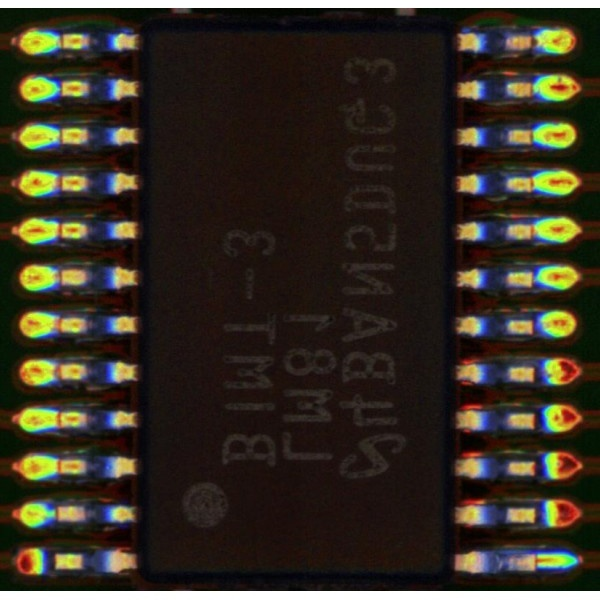Bad_podu: (525, 554, 547, 568)
